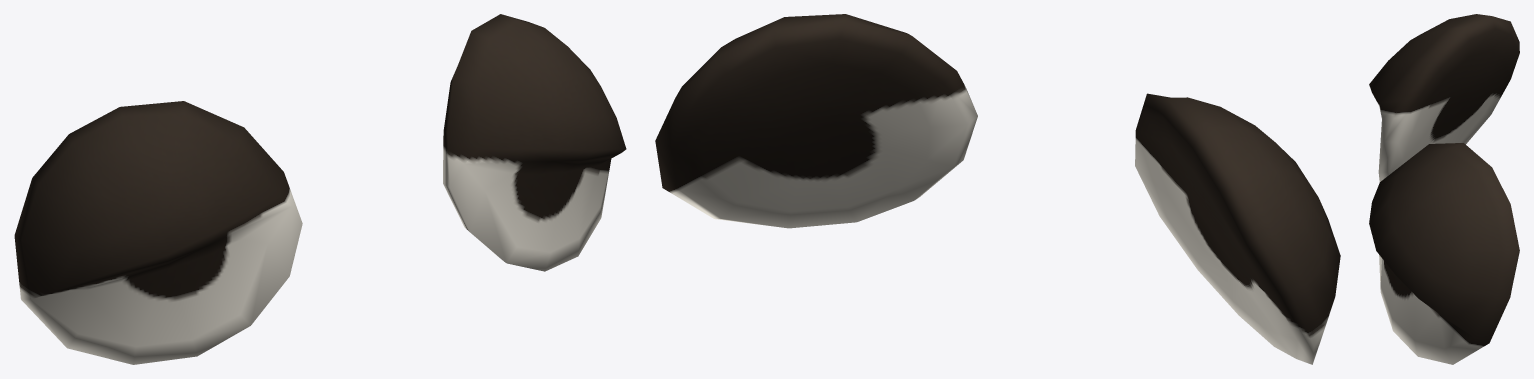
Rendered from devil_eye3.fbx.
3 renders of one model, left to right at view 1: azimuth 30°, elevation 25°; view 2: azimuth 150°, elevation 25°; view 3: azimuth 270°, elevation 25°, orthographic. The views are drawn at different scales.
Visible parts, largest first — view 1: eye6_polySurface1; view 2: eye6_polySurface1; view 3: eye6_polySurface1.
Boxes of the visible parts, x1,y1,x2,y2 form: eye6_polySurface1: (14,14,626,364); eye6_polySurface1: (655,14,1340,364); eye6_polySurface1: (1369,14,1519,364).
Size of the model in its own units: 1.66 by 0.6124 by 0.4585.
